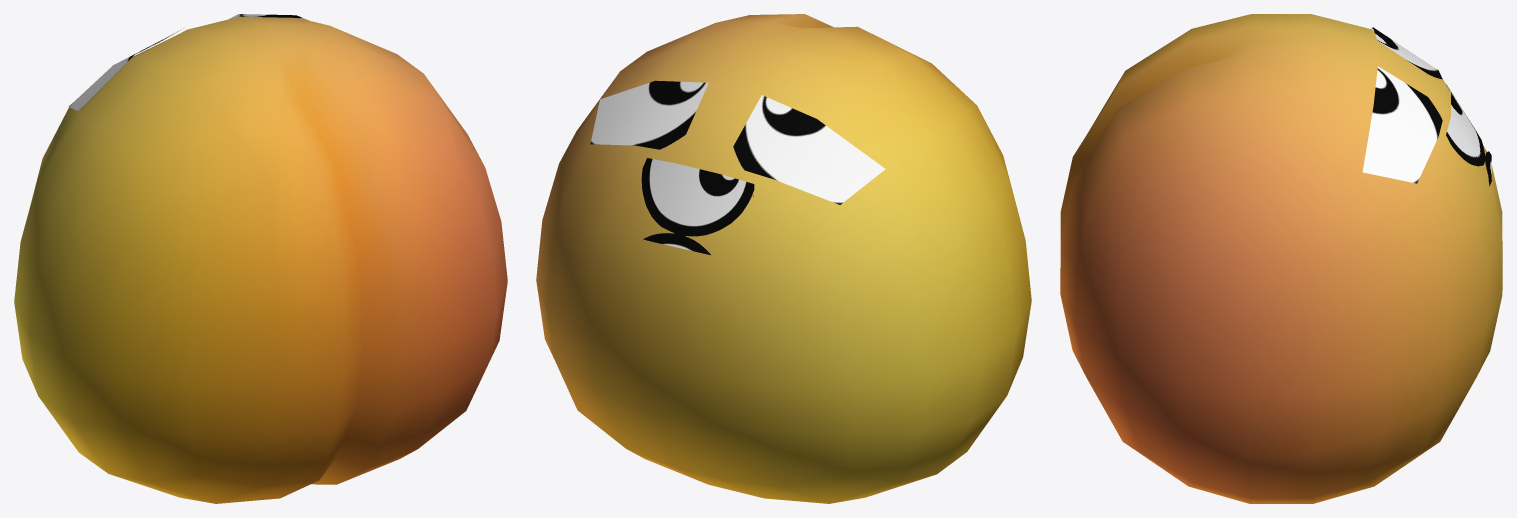
Rendered from peach_smile.fbx.
3 renders of one model, left to right at view 1: azimuth 30°, elevation 25°; view 2: azimuth 150°, elevation 25°; view 3: azimuth 270°, elevation 25°, orthographic.
Visible parts, largest first — view 1: peach_smile; view 2: peach_smile; view 3: peach_smile.
Part boxes in pixels (x1,y1,x2,y2): peach_smile: (14,14,507,503); peach_smile: (536,14,1031,503); peach_smile: (1060,14,1502,503).
Bounding box in the file's own units: 18.86 × 17 × 18.11.
